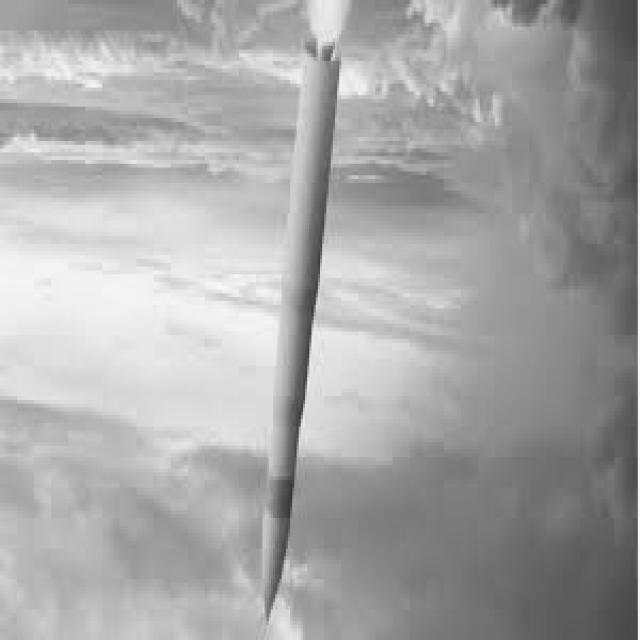missile: (258, 34, 346, 636)
